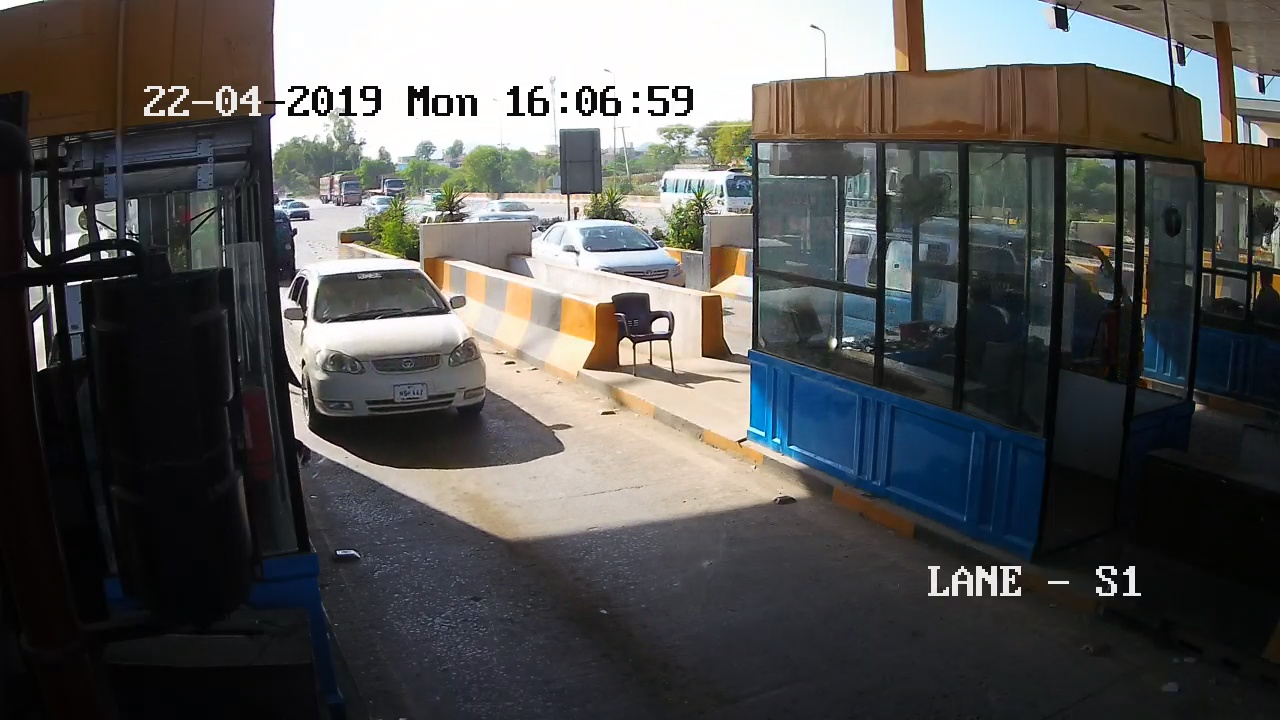Number Plate (Car): (393, 385, 428, 400)
